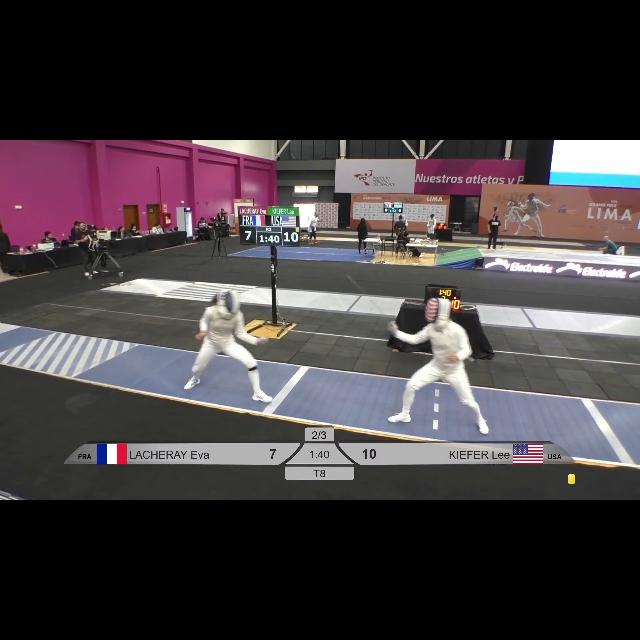blade: (344, 274, 398, 328)
